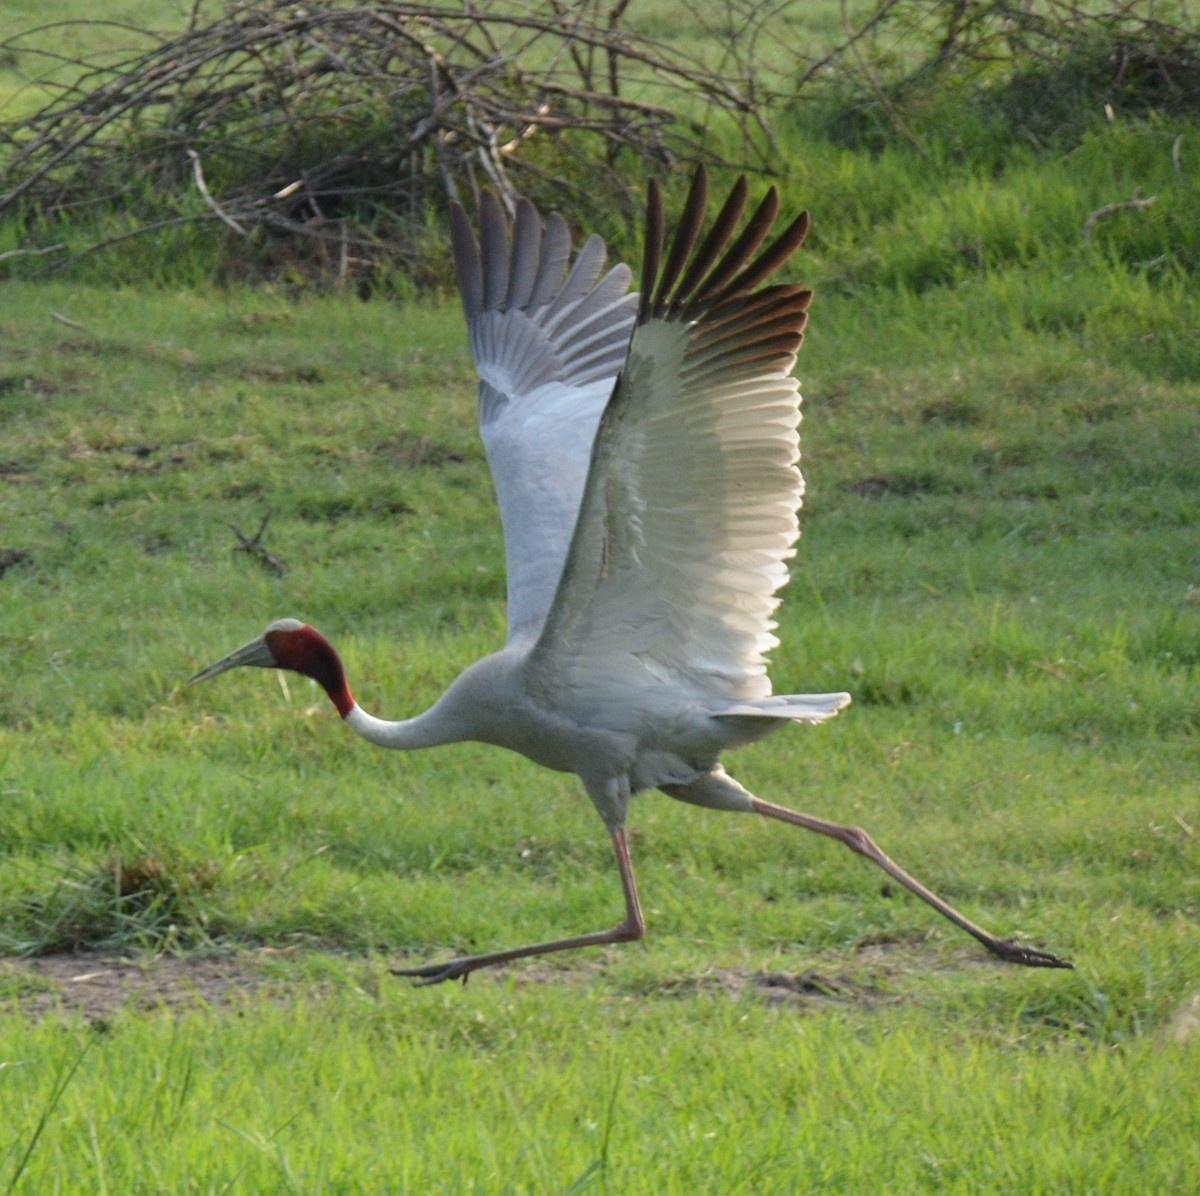crane: (171, 172, 1078, 1007)
